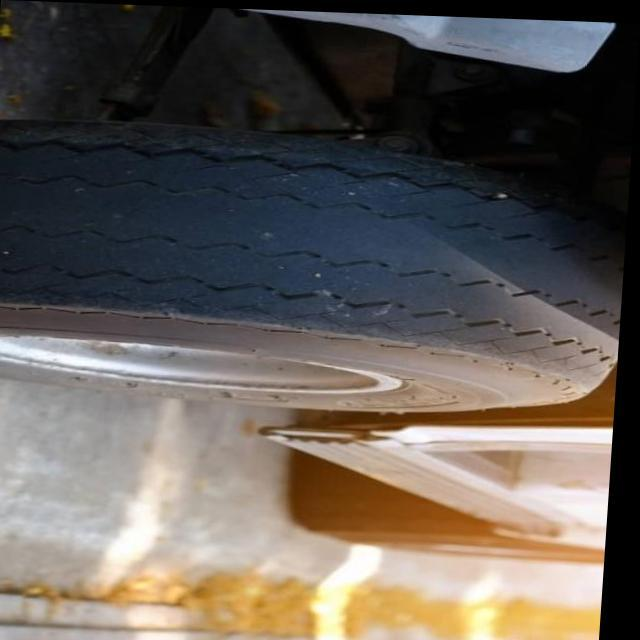Flat spots: (0, 113, 588, 316)
